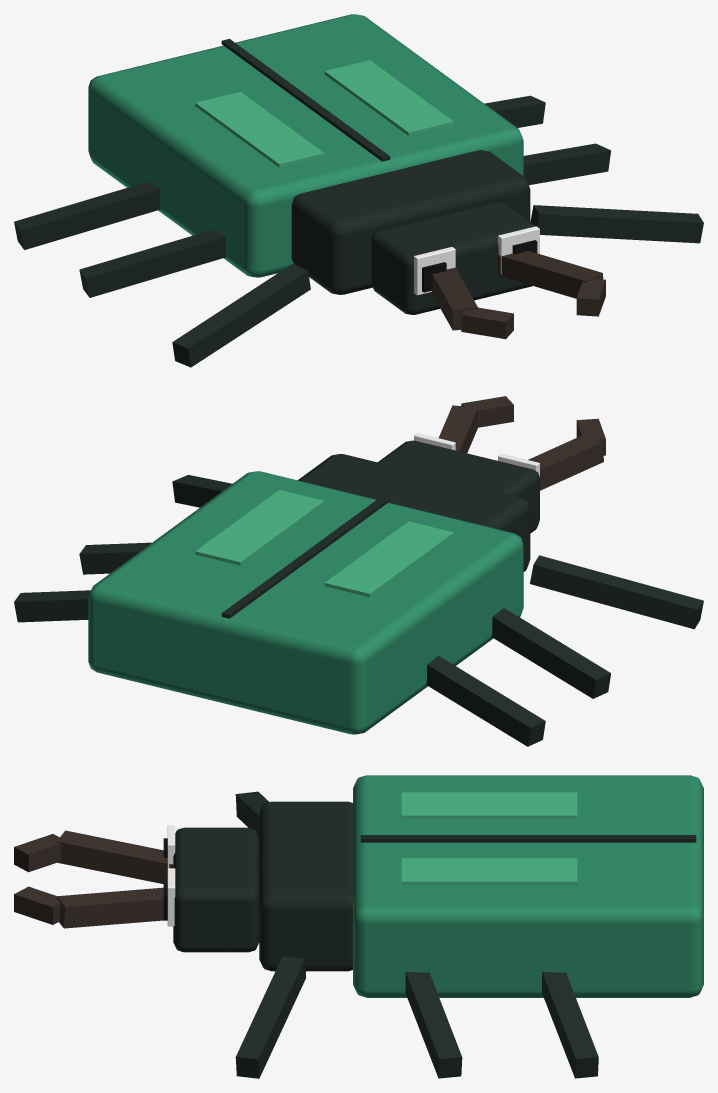
File: beetle.glb
3 views of the same model, one above another, from view 1: azimuth 30°, elevation 25°; view 2: azimuth 150°, elevation 25°; view 3: azimuth 270°, elevation 25° (orthographic). The views are drawn at different scales.
Visible parts, largest first — view 1: Geo_Beetle; view 2: Geo_Beetle; view 3: Geo_Beetle.
Boxes of the visible parts, x1=… form: Geo_Beetle: x1=14, y1=14, x2=703, y2=367; Geo_Beetle: x1=14, y1=396, x2=703, y2=746; Geo_Beetle: x1=14, y1=775, x2=703, y2=1078.
Size of the model in its own units: 87.51 by 16.66 by 95.2.
1 material, 1 textured.
